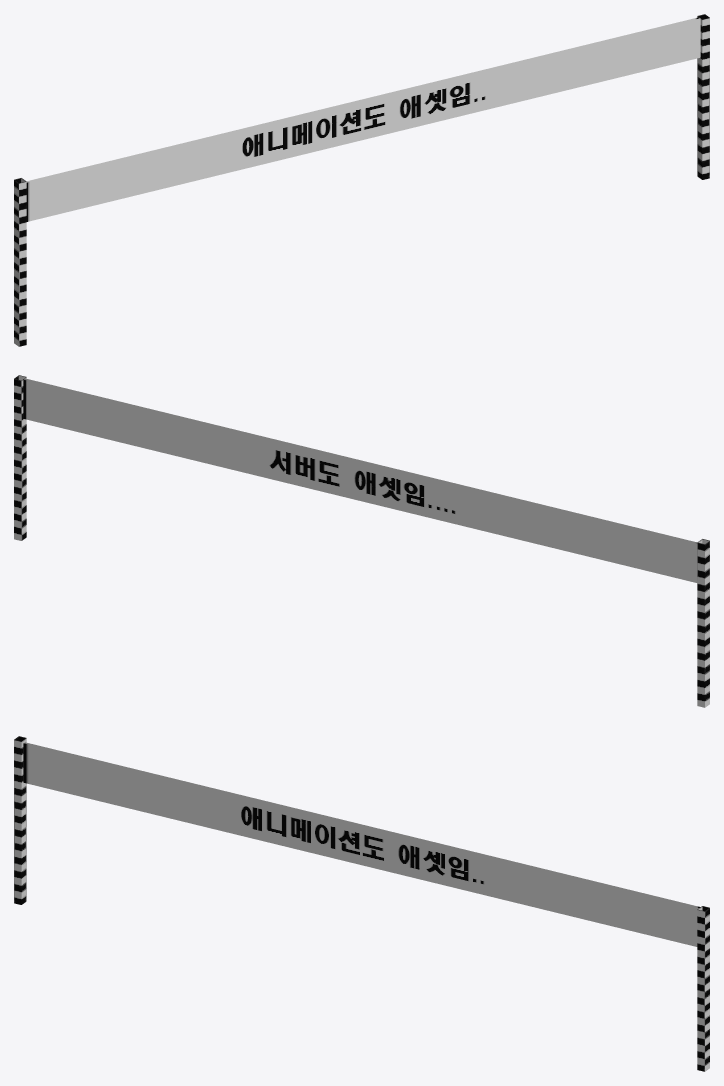
File: gate_vs3.FBX
The picture shows the model from 3 angles, top to bottom: view 1: azimuth 30°, elevation 25°; view 2: azimuth 150°, elevation 25°; view 3: azimuth 330°, elevation 25°; orthographic projection.
Parts seen in each view (by area): view 1: gate002; view 2: gate002; view 3: gate002.
Boxes of the visible parts, box(x1,y1,x2,y2) form: gate002: box(14, 14, 709, 346); gate002: box(14, 375, 709, 707); gate002: box(14, 736, 709, 1071).
Size of the model in its own units: 3084 by 698 by 38.6.
